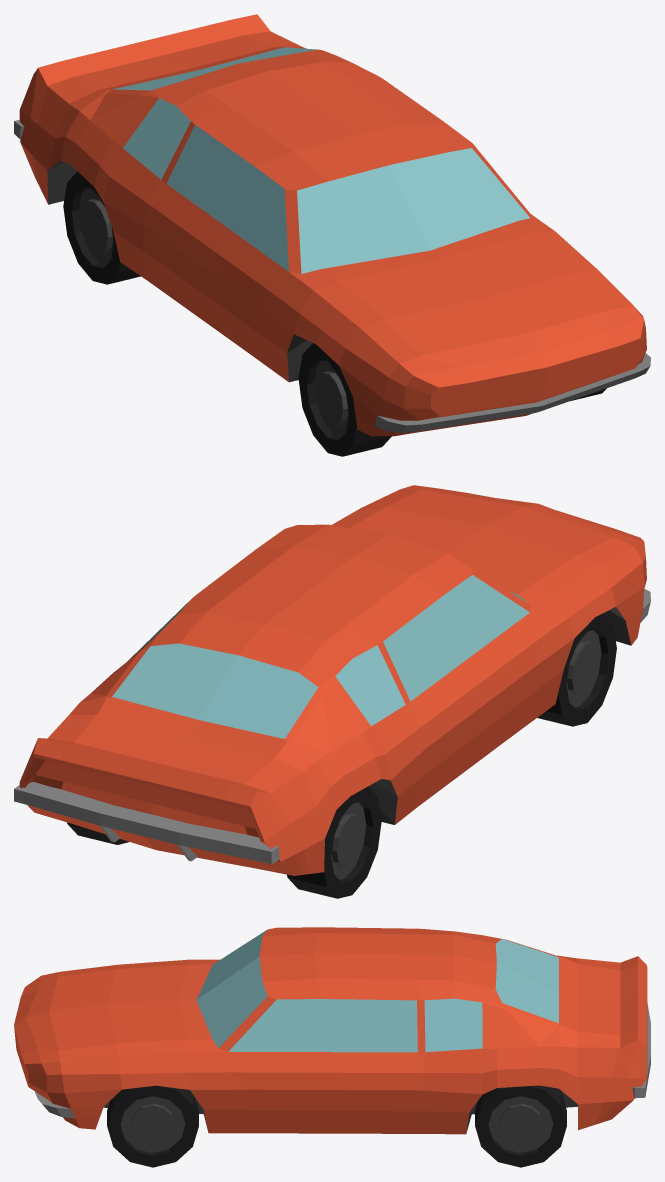
The model's file is MM_Level2_Car.fbx.
3 views of the same model, one above another, from view 1: azimuth 30°, elevation 25°; view 2: azimuth 150°, elevation 25°; view 3: azimuth 270°, elevation 25° (orthographic). The views are drawn at different scales.
Visible parts, largest first — view 1: Destroyed Car1.001; view 2: Destroyed Car1.001; view 3: Destroyed Car1.001.
Part boxes in pixels (bbox=[...]): Destroyed Car1.001: bbox=[14, 14, 650, 456]; Destroyed Car1.001: bbox=[14, 485, 650, 898]; Destroyed Car1.001: bbox=[14, 927, 650, 1167].
Bounding box in the file's own units: 440 × 309 × 1080.
